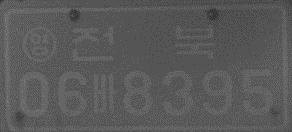0: (19, 70, 50, 120)
3: (161, 67, 196, 118)
5: (239, 67, 274, 116)
6: (56, 70, 88, 117)
8: (121, 70, 154, 115)
9: (200, 68, 234, 117)
바: (91, 72, 117, 117)
영: (21, 26, 58, 63)
전북_D: (70, 25, 217, 62)
